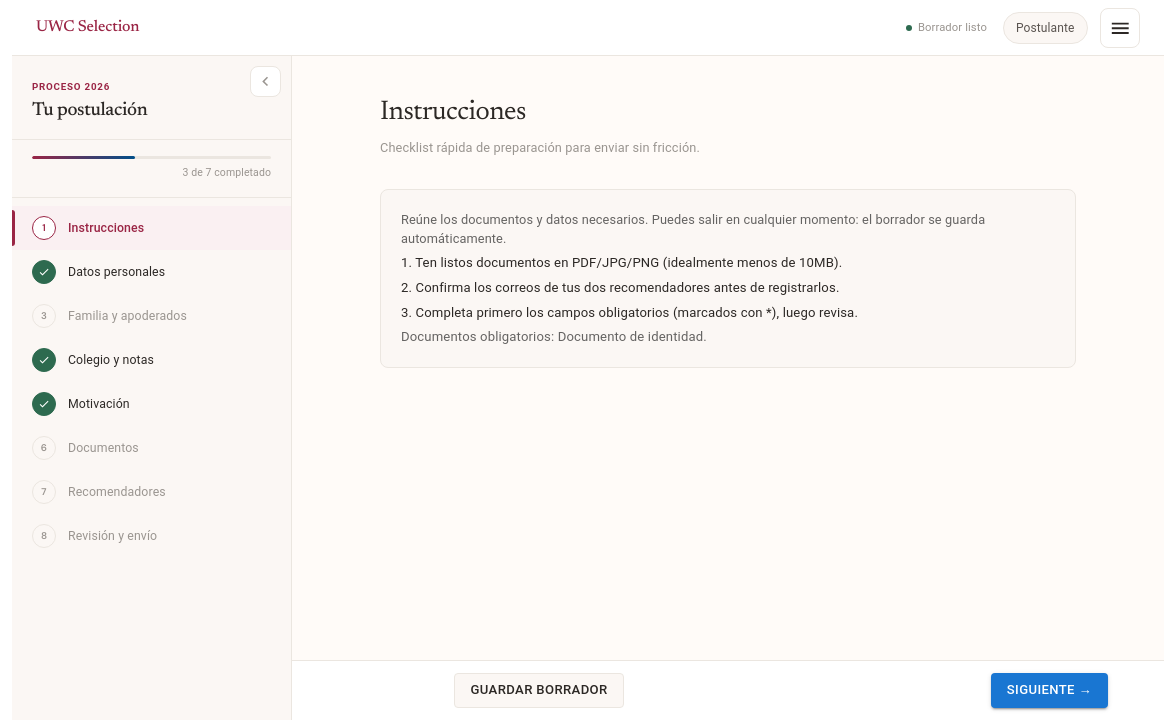
Test: ApplicantApplicationForm › reports registered recommenders accurately when invite emails fail
The width and height of the screenshot is (1164, 720).
Click the button "7 Recomendadores" at (152, 492), box [12,470,291,514]
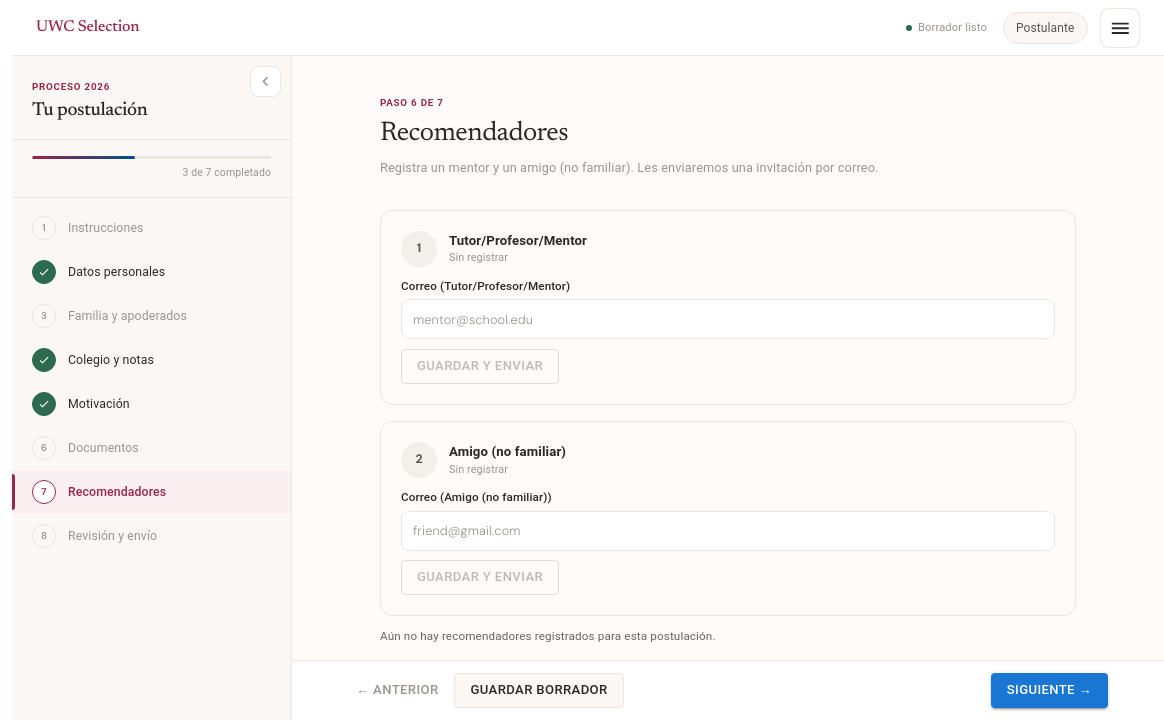
Type "mentor@example.com" into the field named "Correo (Tutor/Profesor/Mentor)" at (728, 319), box [401,301,1055,337]
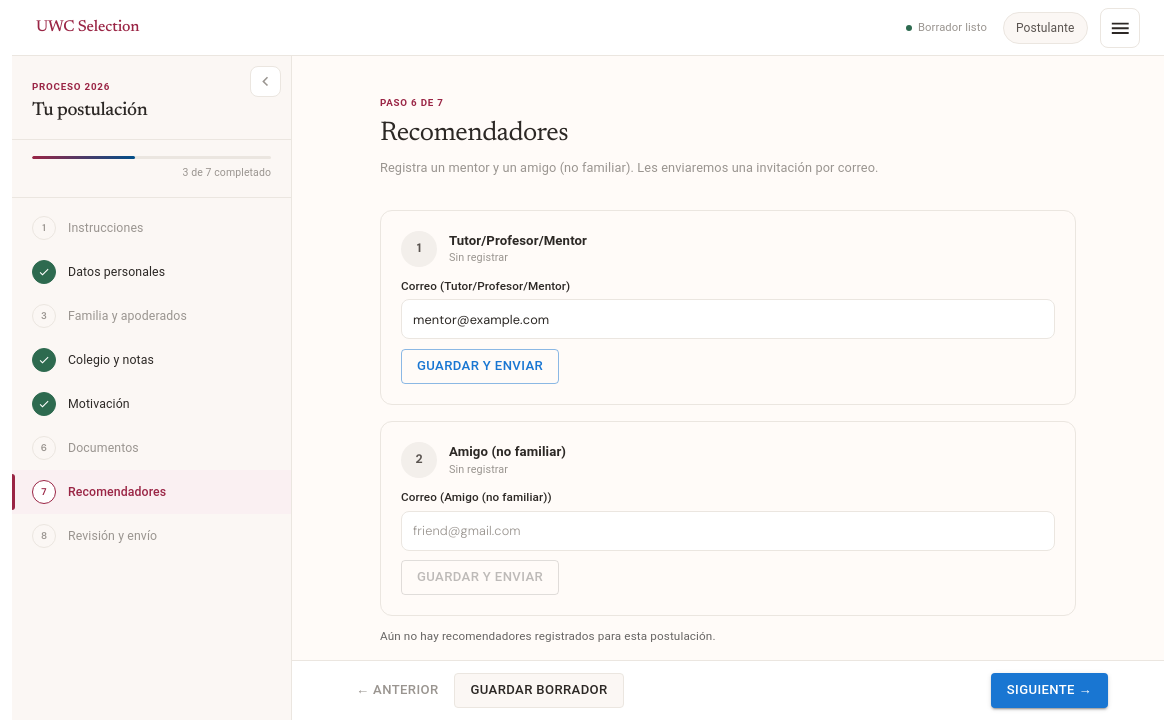
Click the button "Guardar y enviar" below "Correo (Tutor/Profesor/Mentor)" at (480, 366), box [401,349,559,384]
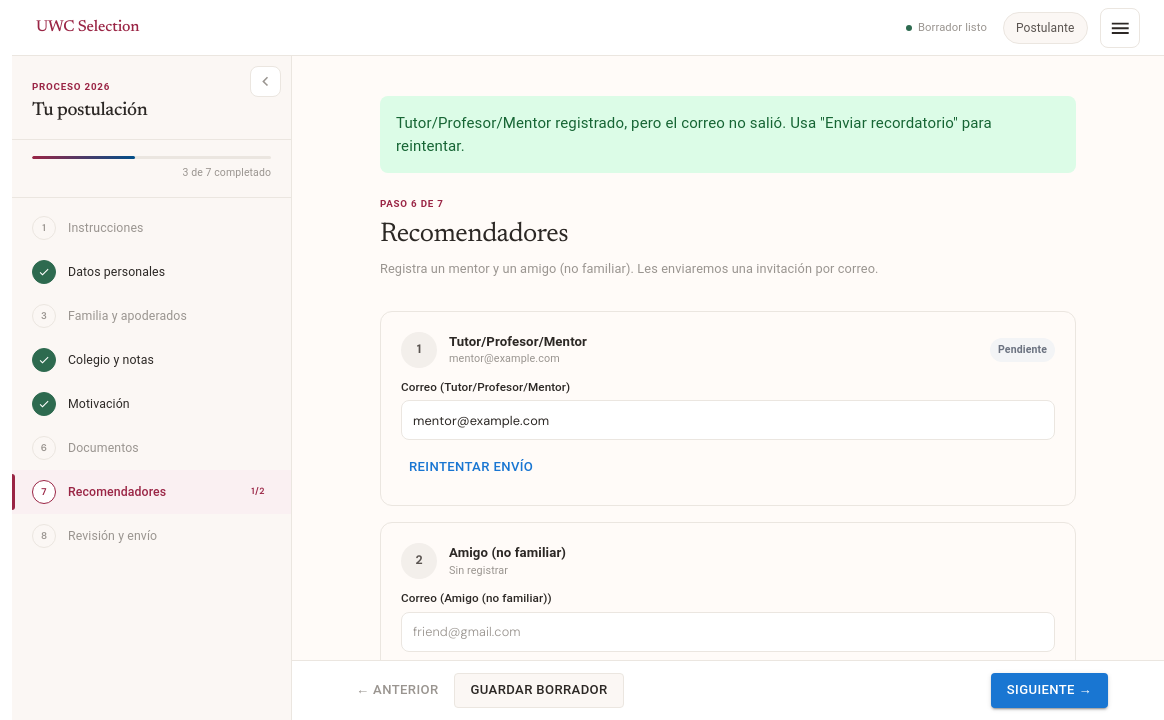
Check: the text "Tutor/Profesor/Mentor registrado, pero el correo no salió" is shown, box [396,114,992,154]
Check: the button "Reintentar envío" is shown, box [401,450,541,485]
